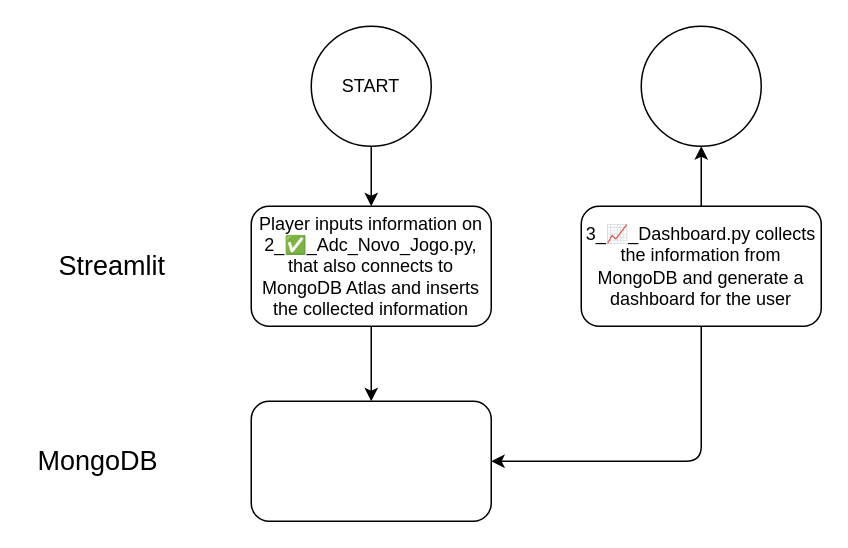
The diagram is 848 pixels wide and 548 high, and some of its shapes have lost their labels. The centre of each missing label's shape, as x and y in pixels:
"END" goes at [700,85].
"Stores the information inside of a noSQL database" goes at [370,460].
